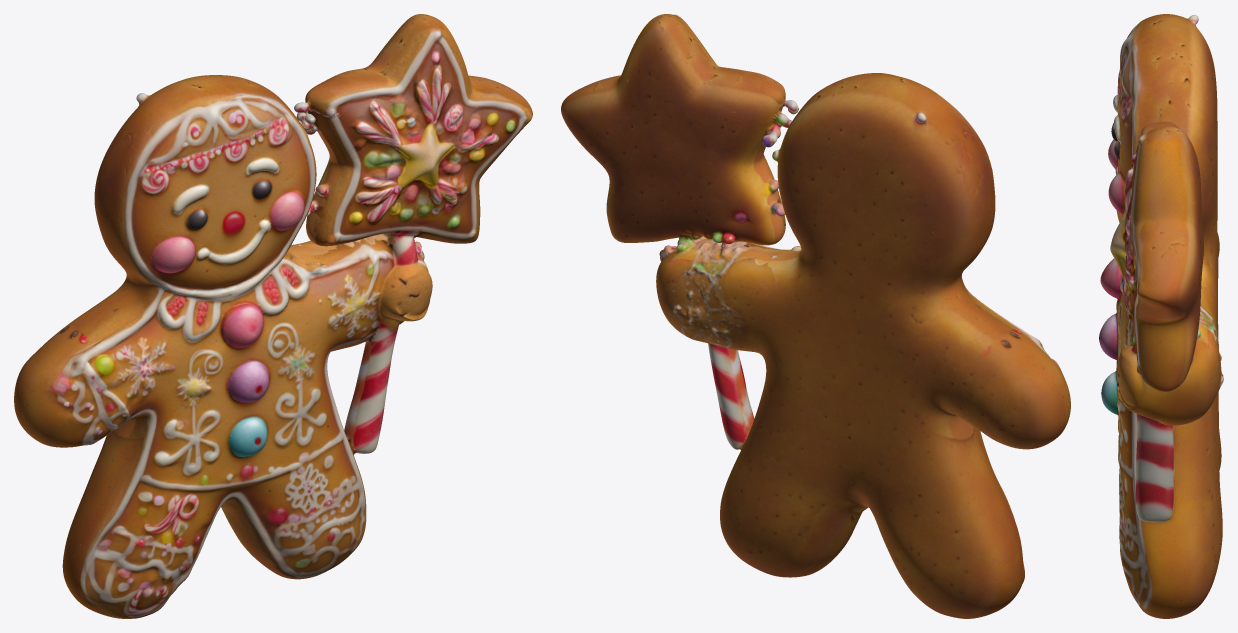
File: Meshy_AI_Gingerbread_Starbeare_1113012706_texture.glb
3 views of the same model, side by side, from view 1: azimuth 30°, elevation 25°; view 2: azimuth 150°, elevation 25°; view 3: azimuth 270°, elevation 25° (orthographic). The views are drawn at different scales.
Size of the model in its own units: 2 by 1.99 by 0.4151.
1 material, 1 textured.
